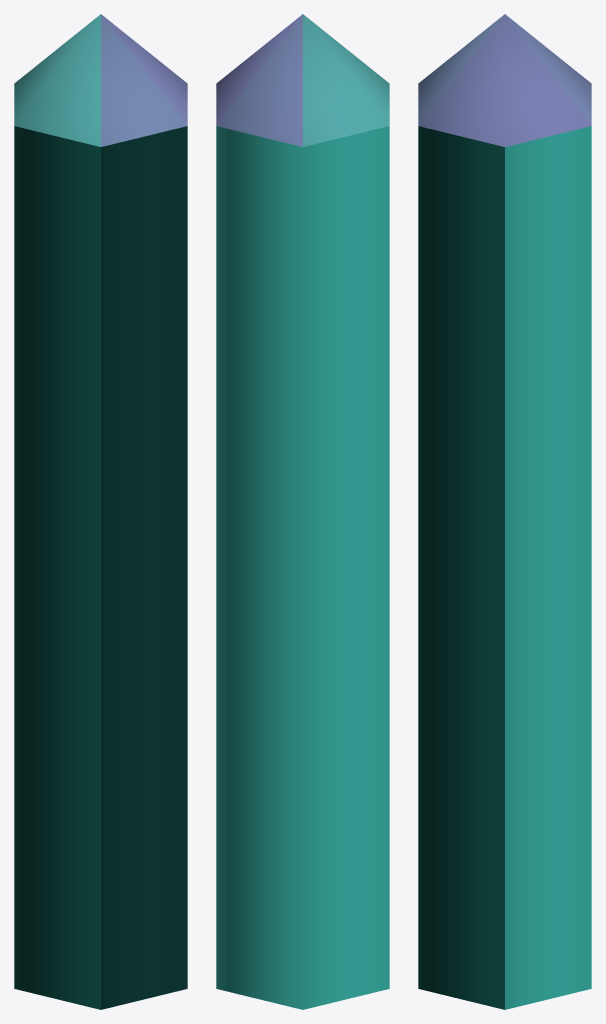
The model's file is Solo.RocketMesh.TealGalaxy.glb.
The picture shows the model from 3 angles, left to right: view 1: azimuth 30°, elevation 25°; view 2: azimuth 150°, elevation 25°; view 3: azimuth 270°, elevation 25°; orthographic projection.
Visible parts, largest first — view 1: Solo.RocketMesh.TealGalaxy; view 2: Solo.RocketMesh.TealGalaxy; view 3: Solo.RocketMesh.TealGalaxy.
Boxes of the visible parts, x1,y1,x2,y2 form: Solo.RocketMesh.TealGalaxy: [14, 14, 187, 1009]; Solo.RocketMesh.TealGalaxy: [216, 14, 389, 1009]; Solo.RocketMesh.TealGalaxy: [418, 14, 591, 1009].
Bounding box in the file's own units: 0.2 × 1.05 × 0.1732.
Materials: 1 (1 with a texture image).
